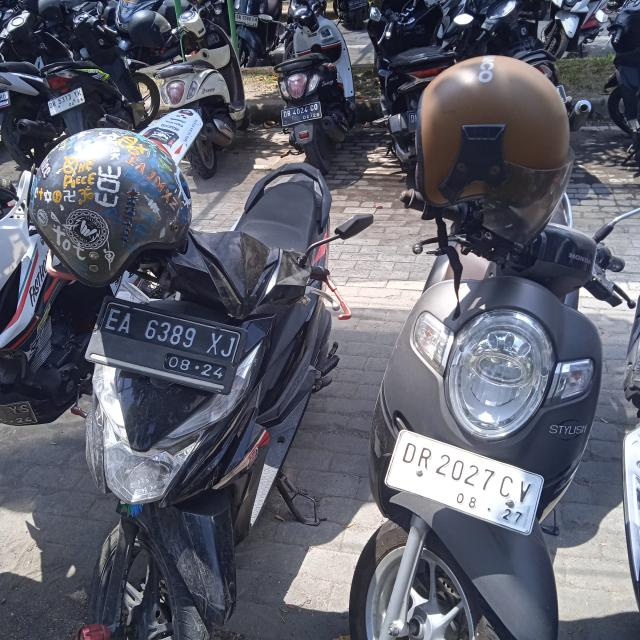plate: (386, 437, 542, 532), (96, 300, 242, 384), (47, 86, 86, 116), (280, 100, 322, 127)
